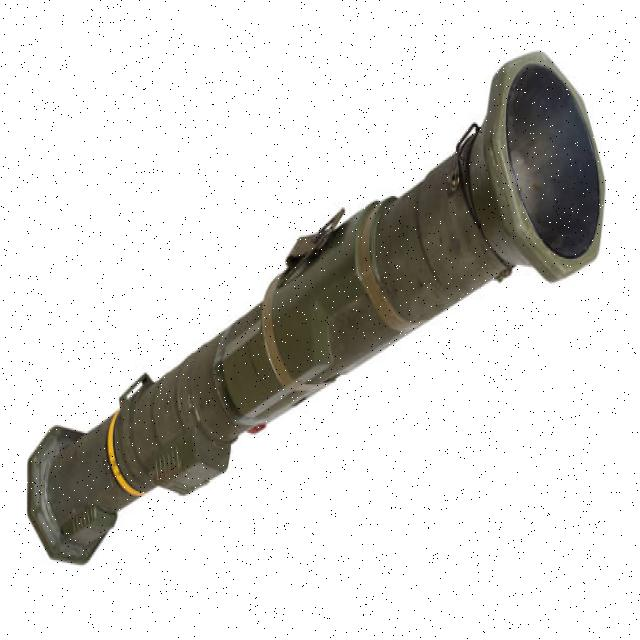bazooka: (25, 48, 620, 575)
